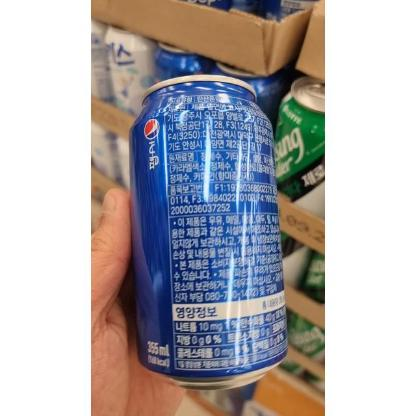Can: (130, 73, 288, 391)
